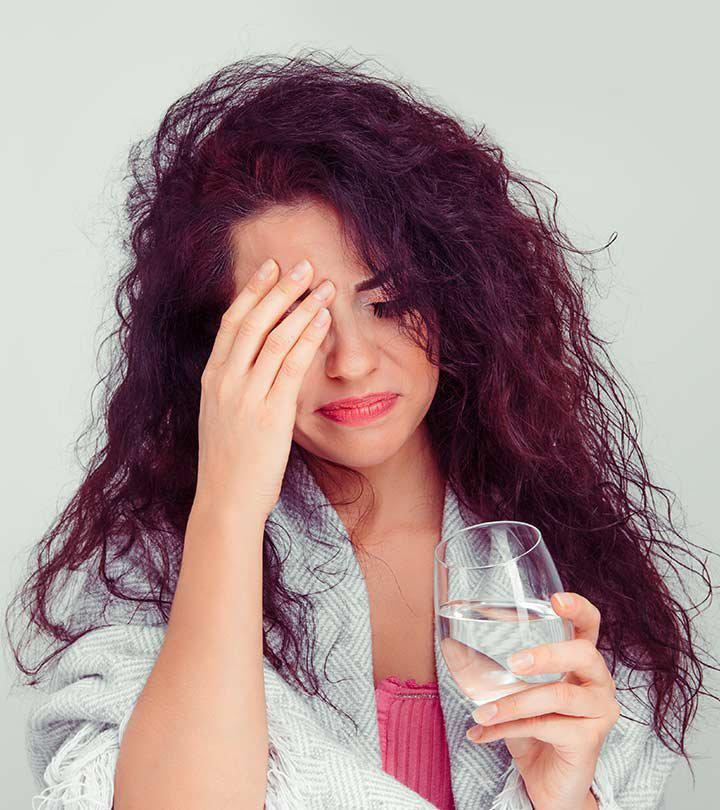Drunk: (241, 210, 445, 455)
